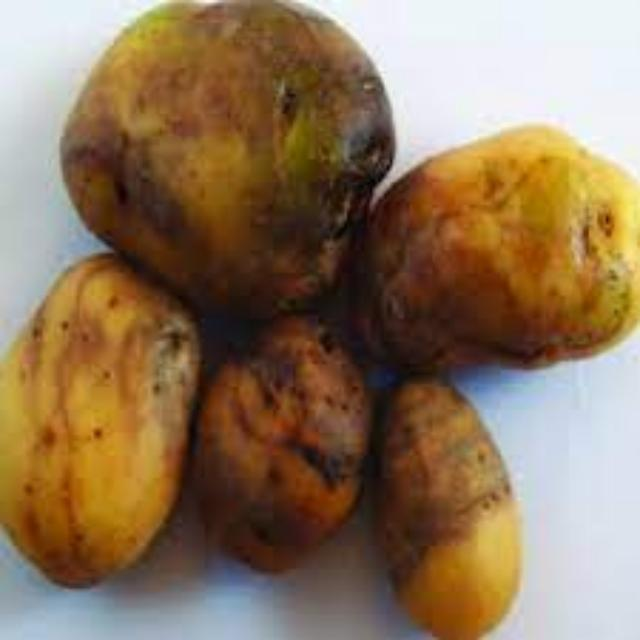Defected potato: (60, 0, 398, 330), (354, 136, 640, 374), (5, 247, 205, 585), (350, 368, 530, 640), (192, 304, 364, 572)
